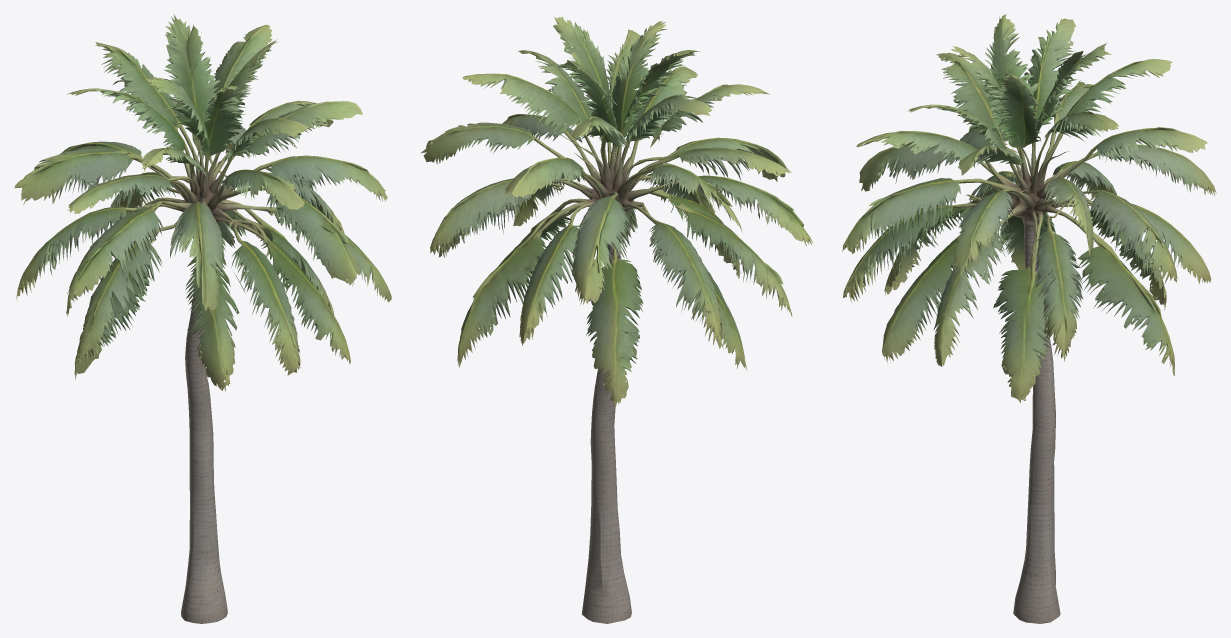
File: decor-palmier.glb
3 views of the same model, side by side, from view 1: azimuth 30°, elevation 25°; view 2: azimuth 150°, elevation 25°; view 3: azimuth 270°, elevation 25° (orthographic).
Visible parts, largest first — view 1: model; view 2: model; view 3: model.
Part boxes in pixels (x1,y1,x2,y2): model: [14, 14, 391, 623]; model: [420, 16, 813, 623]; model: [842, 14, 1216, 623].
Bounding box in the file's own units: 1.14 × 1.9 × 1.13.
1 material, 1 textured.
